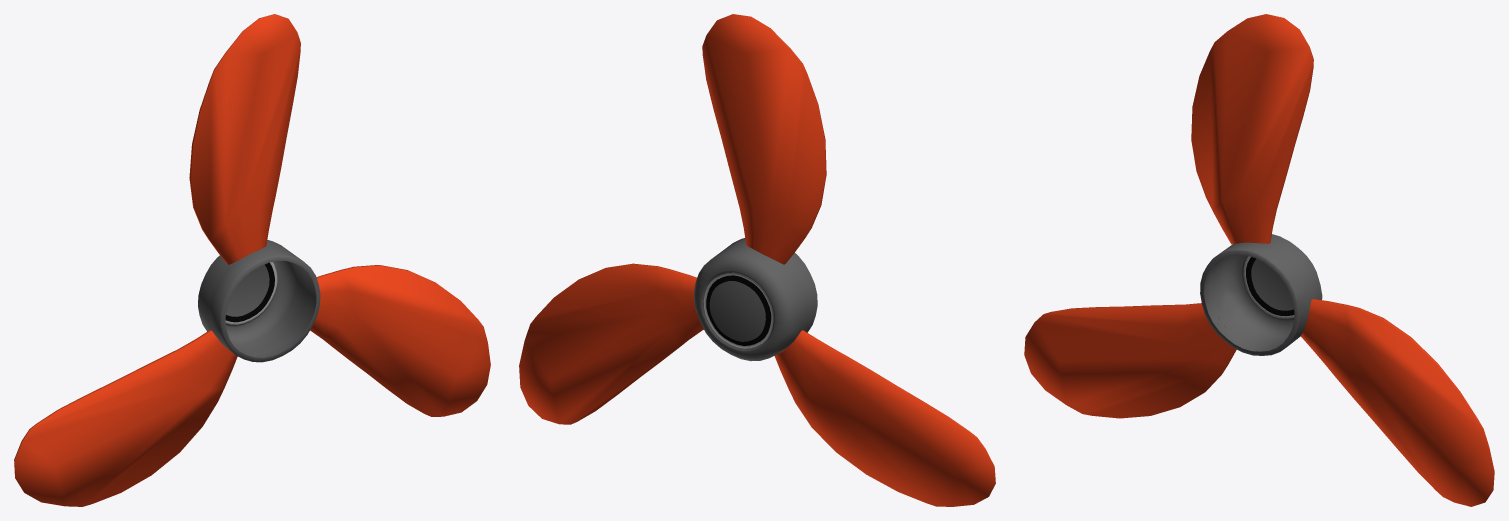
File: prof_back_3.fbx
3 views of the same model, side by side, from view 1: azimuth 30°, elevation 25°; view 2: azimuth 150°, elevation 25°; view 3: azimuth 330°, elevation 25° (orthographic).
Parts seen in each view (by area): view 1: Propeller.010; view 2: Propeller.010; view 3: Propeller.010.
Part boxes in pixels (box(x1,y1,x2,y2)): Propeller.010: box(14, 14, 490, 506); Propeller.010: box(519, 14, 995, 506); Propeller.010: box(1024, 14, 1494, 506).
Size of the model in its own units: 348 by 313 by 38.4.
